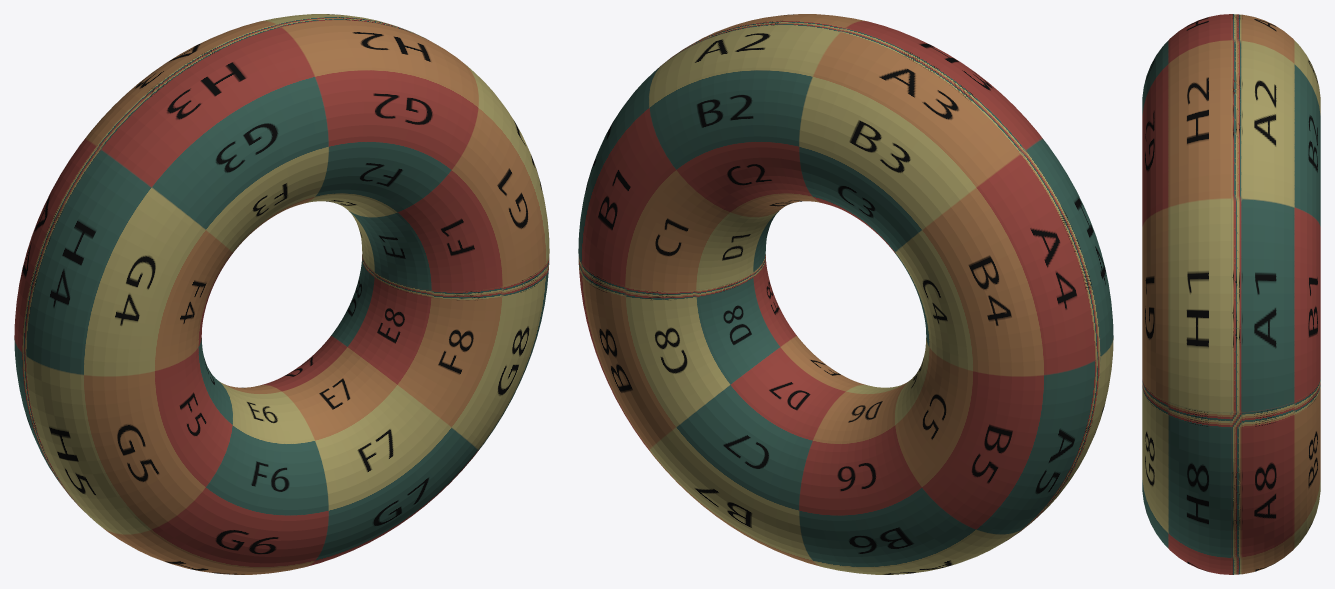
File: texture_torus_R0_r3.glb
The picture shows the model from 3 angles, left to right: view 1: azimuth 30°, elevation 25°; view 2: azimuth 150°, elevation 25°; view 3: azimuth 270°, elevation 25°; orthographic projection. The views are drawn at different scales.
Visible parts, largest first — view 1: world; view 2: world; view 3: world.
Part boxes in pixels (x1,y1,x2,y2): world: (14, 14, 549, 574); world: (578, 14, 1113, 574); world: (1142, 14, 1320, 574).
Bounding box in the file's own units: 14.67 × 14.67 × 4.66.
1 material, 1 textured.
